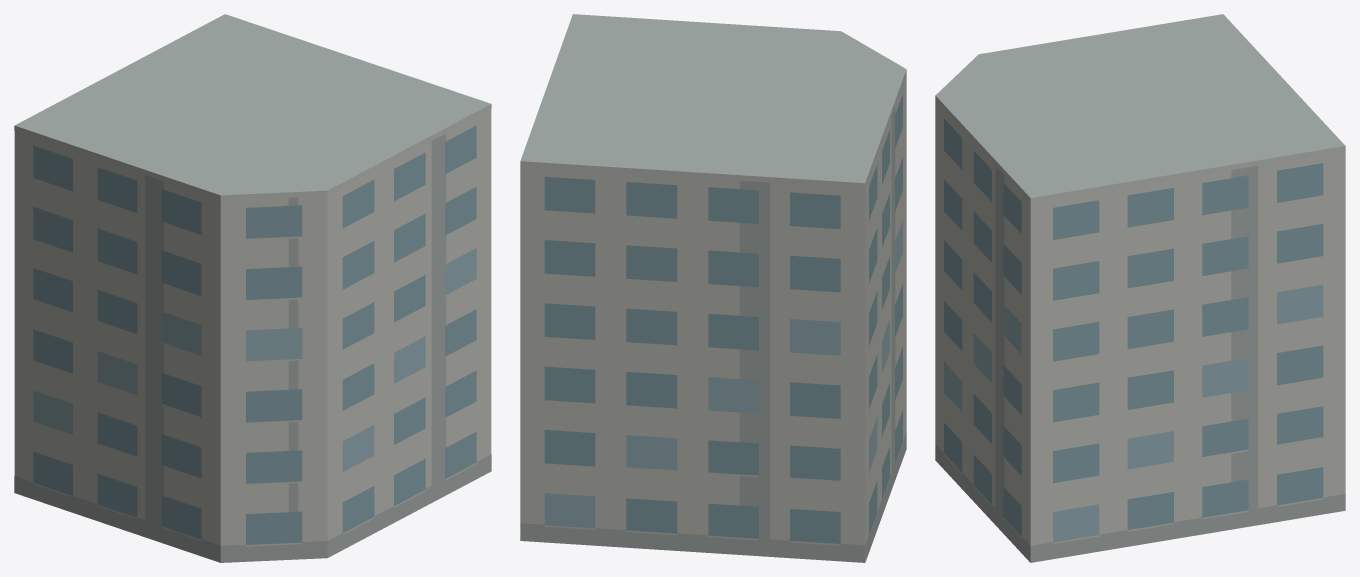
File: survey-upis-33014377.glb
3 renders of one model, left to right at view 1: azimuth 30°, elevation 25°; view 2: azimuth 150°, elevation 25°; view 3: azimuth 270°, elevation 25°, orthographic. The views are drawn at different scales.
Visible parts, largest first — view 1: survey-upis-33014377.tmp; view 2: survey-upis-33014377.tmp; view 3: survey-upis-33014377.tmp.
Boxes of the visible parts, box(x1,y1,x2,y2) form: survey-upis-33014377.tmp: box(14, 14, 491, 562); survey-upis-33014377.tmp: box(520, 14, 906, 562); survey-upis-33014377.tmp: box(935, 14, 1345, 562).
Size of the model in its own units: 17.86 by 16.5 by 16.82.
